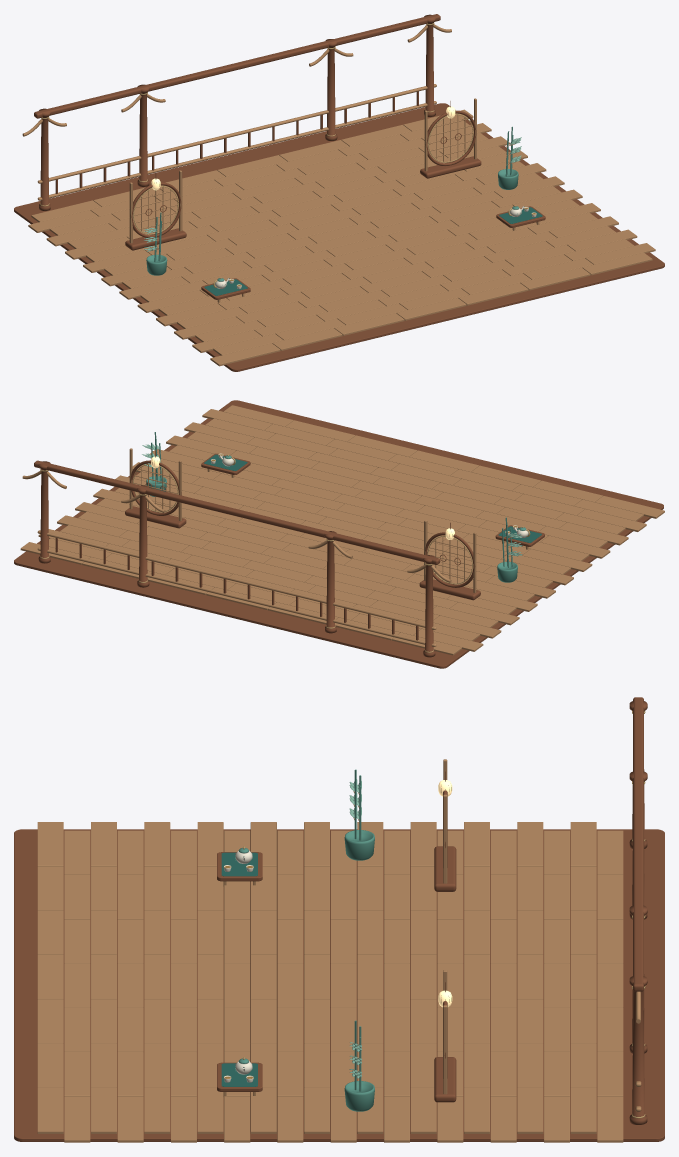
The model's file is mahjong_veranda_sculpted_v3.glb.
The picture shows the model from 3 angles, top to bottom: view 1: azimuth 30°, elevation 25°; view 2: azimuth 150°, elevation 25°; view 3: azimuth 270°, elevation 25°; orthographic projection. The views are drawn at different scales.
Visible parts, largest first — view 1: mahjong_veranda_sculpted_v3__FurnitureWood_GoldenEdges, mahjong_veranda_sculpted_v3__FurnitureWood_WaxedChestnut, mahjong_veranda_sculpted_v3__Celadon enamel, mahjong_veranda_sculpted_v3__FurnitureFelt_DeepJade, mahjong_veranda_sculpted_v3__Brushed champagne brass; view 2: mahjong_veranda_sculpted_v3__FurnitureWood_GoldenEdges, mahjong_veranda_sculpted_v3__FurnitureWood_WaxedChestnut, mahjong_veranda_sculpted_v3__Celadon enamel, mahjong_veranda_sculpted_v3__FurnitureFelt_DeepJade, mahjong_veranda_sculpted_v3__Brushed champagne brass; view 3: mahjong_veranda_sculpted_v3__FurnitureWood_GoldenEdges, mahjong_veranda_sculpted_v3__FurnitureWood_WaxedChestnut, mahjong_veranda_sculpted_v3__Celadon enamel, mahjong_veranda_sculpted_v3__FurnitureFelt_DeepJade.
Boxes of the visible parts, left/top/right/bottom form: mahjong_veranda_sculpted_v3__FurnitureWood_GoldenEdges: left=22, top=24, right=655, bottom=366; mahjong_veranda_sculpted_v3__FurnitureWood_WaxedChestnut: left=14, top=14, right=664, bottom=371; mahjong_veranda_sculpted_v3__Celadon enamel: left=146, top=126, right=522, bottom=286; mahjong_veranda_sculpted_v3__FurnitureFelt_DeepJade: left=204, top=207, right=542, bottom=295; mahjong_veranda_sculpted_v3__Brushed champagne brass: left=40, top=22, right=536, bottom=287; mahjong_veranda_sculpted_v3__FurnitureWood_GoldenEdges: left=20, top=405, right=664, bottom=655; mahjong_veranda_sculpted_v3__FurnitureWood_WaxedChestnut: left=14, top=400, right=663, bottom=668; mahjong_veranda_sculpted_v3__Celadon enamel: left=146, top=432, right=526, bottom=582; mahjong_veranda_sculpted_v3__FurnitureFelt_DeepJade: left=204, top=454, right=541, bottom=542; mahjong_veranda_sculpted_v3__Brushed champagne brass: left=40, top=454, right=530, bottom=652; mahjong_veranda_sculpted_v3__FurnitureWood_GoldenEdges: left=37, top=759, right=641, bottom=1142; mahjong_veranda_sculpted_v3__FurnitureWood_WaxedChestnut: left=14, top=697, right=664, bottom=1141; mahjong_veranda_sculpted_v3__Celadon enamel: left=235, top=769, right=374, bottom=1111; mahjong_veranda_sculpted_v3__FurnitureFelt_DeepJade: left=221, top=852, right=257, bottom=1086.
Size of the model in its own units: 37.01 by 7.96 by 32.
